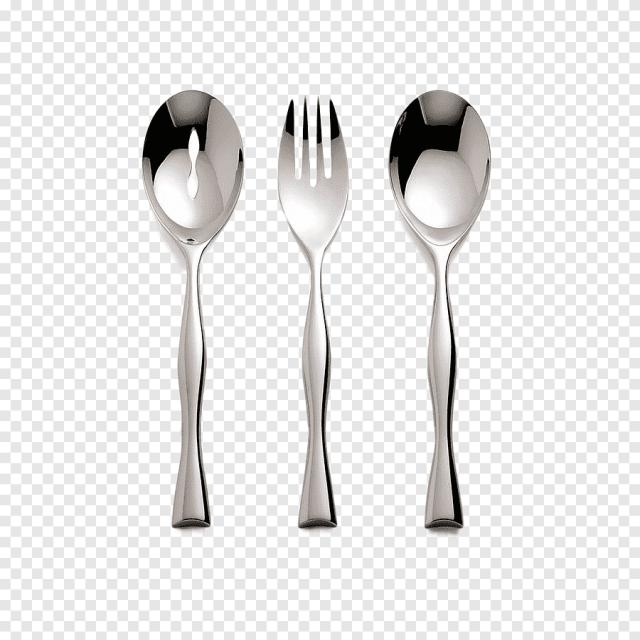Garpu: (250, 88, 378, 561)
Sendok: (115, 79, 265, 554), (377, 70, 515, 551)
